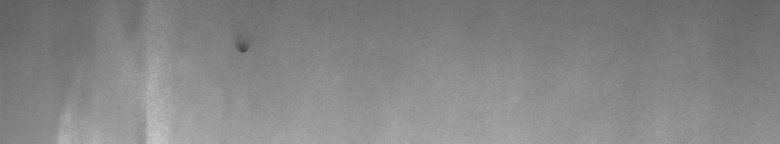fi: (235, 40, 251, 60)
